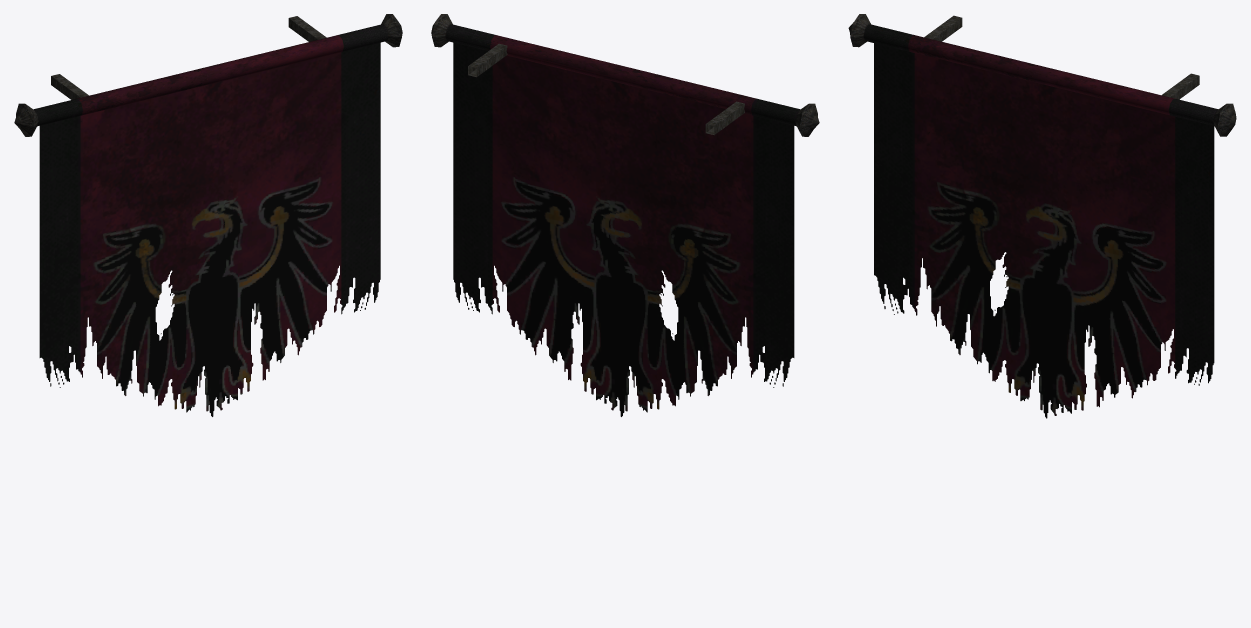
Rendered from banner_short02_broken.dae.
The picture shows the model from 3 angles, left to right: view 1: azimuth 30°, elevation 25°; view 2: azimuth 150°, elevation 25°; view 3: azimuth 330°, elevation 25°; orthographic projection.
Parts seen in each view (by area): view 1: polySurface18, polySurface22, polySurface19; view 2: polySurface18, polySurface22, polySurface19, polySurface21, polySurface20; view 3: polySurface18, polySurface22, polySurface19.
Part boxes in pixels (x1,y1,x2,y2): polySurface18: [39, 42, 380, 416]; polySurface22: [39, 47, 380, 395]; polySurface19: [14, 14, 402, 136]; polySurface18: [453, 42, 794, 416]; polySurface22: [454, 43, 791, 415]; polySurface19: [431, 14, 819, 136]; polySurface21: [705, 101, 744, 135]; polySurface20: [468, 43, 507, 77]; polySurface18: [874, 43, 1214, 418]; polySurface22: [874, 43, 1213, 418]; polySurface19: [848, 14, 1236, 136].
Bounding box in the file's own units: 1.63 × 2.07 × 0.3168.
